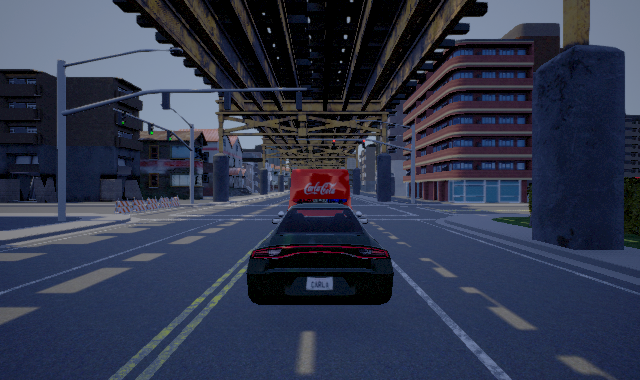traffic_light: (118, 112, 126, 126), (148, 123, 154, 135), (167, 130, 173, 141), (362, 140, 365, 148), (333, 140, 335, 148)
vehicle: (246, 203, 394, 305), (285, 167, 356, 242)
